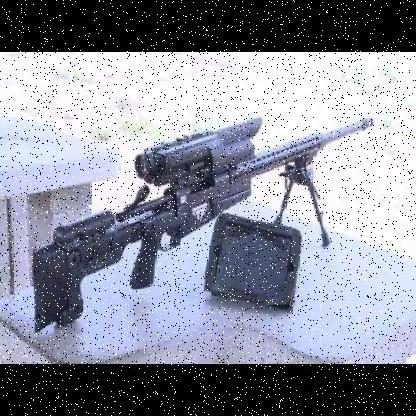rifle: (10, 95, 383, 327)
